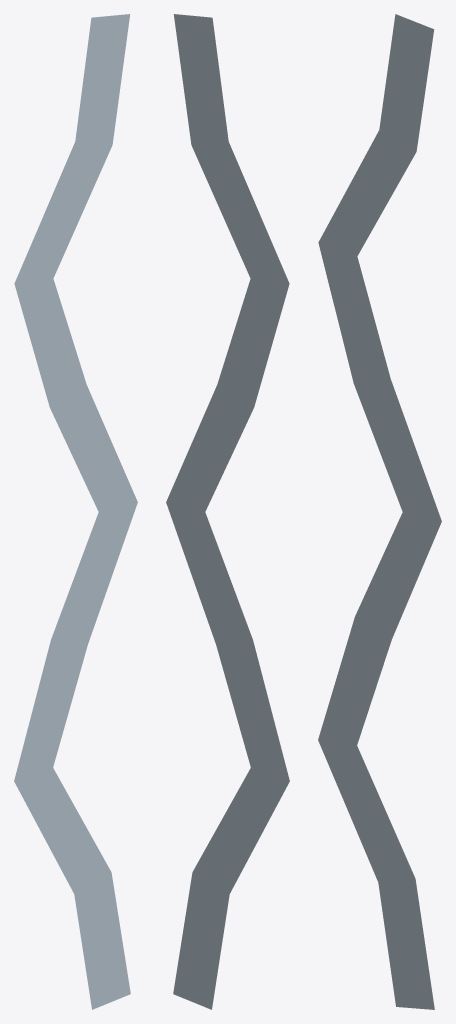
The model's file is 2085_ThunderWave_1Round_CosmeticColumn_29_1.fbx.
3 renders of one model, left to right at view 1: azimuth 30°, elevation 25°; view 2: azimuth 150°, elevation 25°; view 3: azimuth 330°, elevation 25°, orthographic.
Parts seen in each view (by area): view 1: PART_CosmeticColumn_29_1; view 2: PART_CosmeticColumn_29_1; view 3: PART_CosmeticColumn_29_1.
Part boxes in pixels (x1,y1,x2,y2): PART_CosmeticColumn_29_1: [14, 14, 137, 1009]; PART_CosmeticColumn_29_1: [166, 14, 289, 1009]; PART_CosmeticColumn_29_1: [318, 14, 441, 1009].
Size of the model in its own units: 15.77 by 121 by 1.97e-05.
